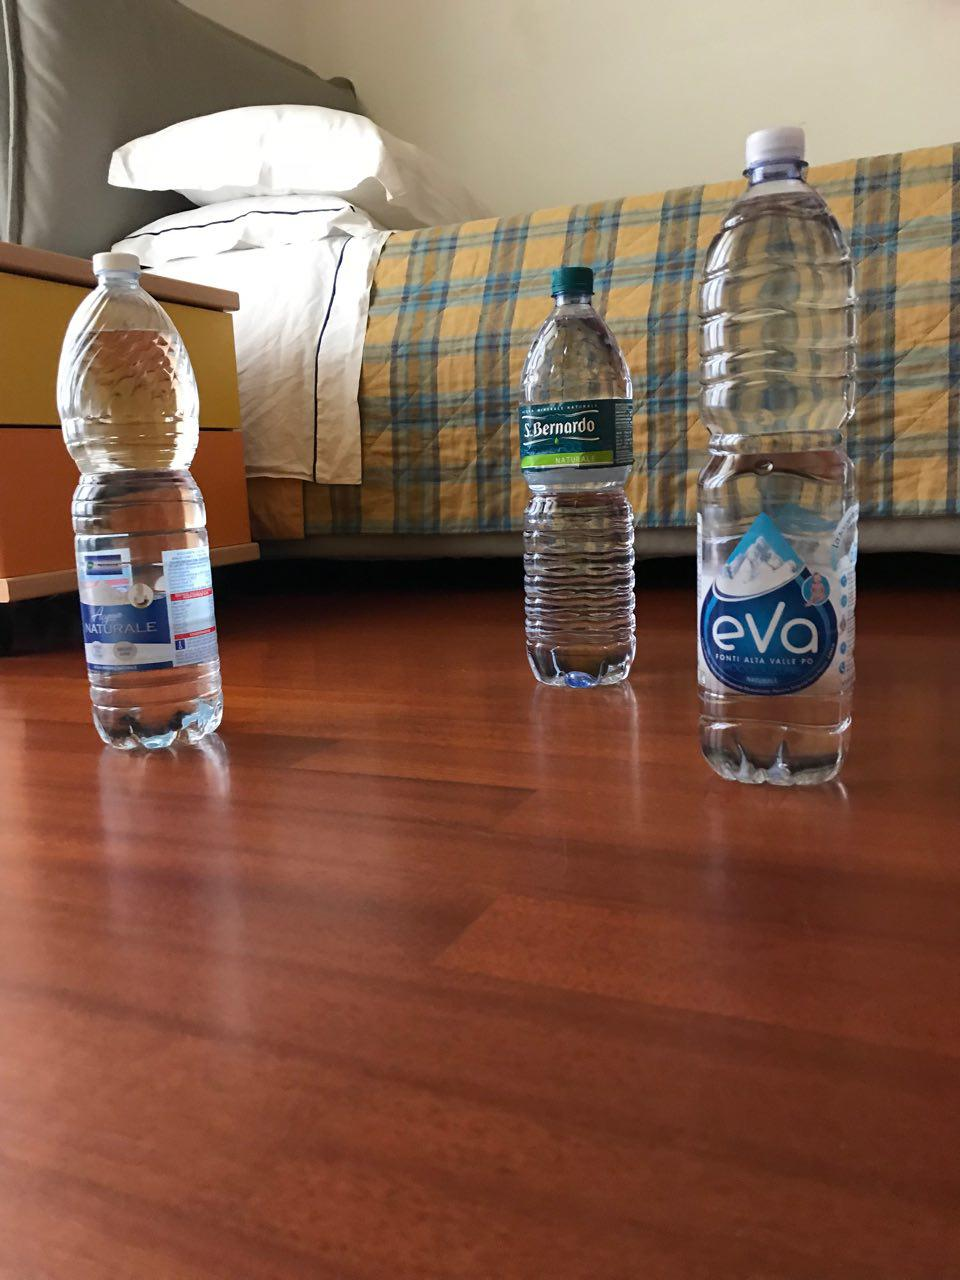san_bernardo: (518, 264, 635, 689)
